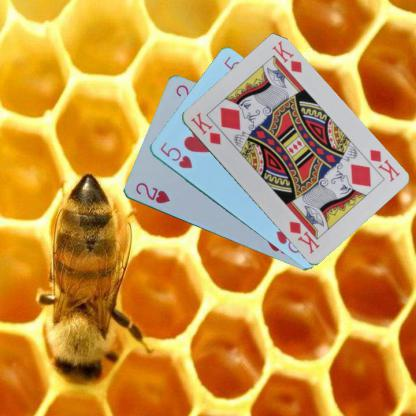2h: (132, 180, 171, 205)
5h: (157, 139, 194, 170)
Kd: (366, 146, 402, 183), (188, 109, 222, 146)
